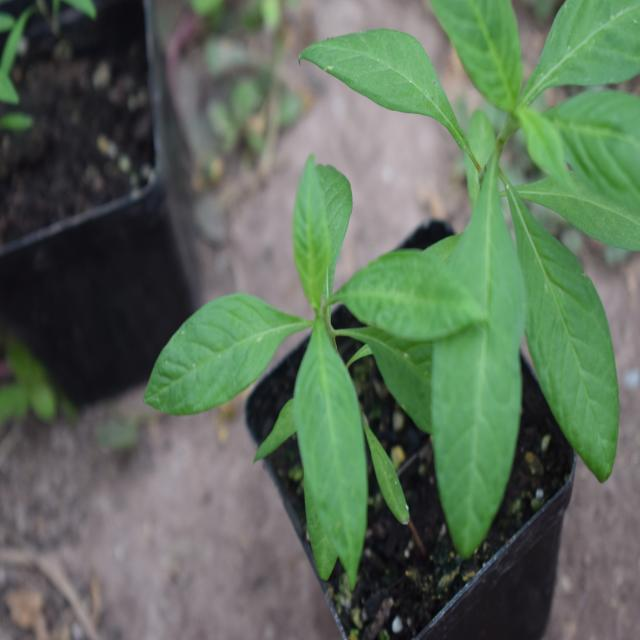white_smart_weed: (178, 165, 498, 554)
